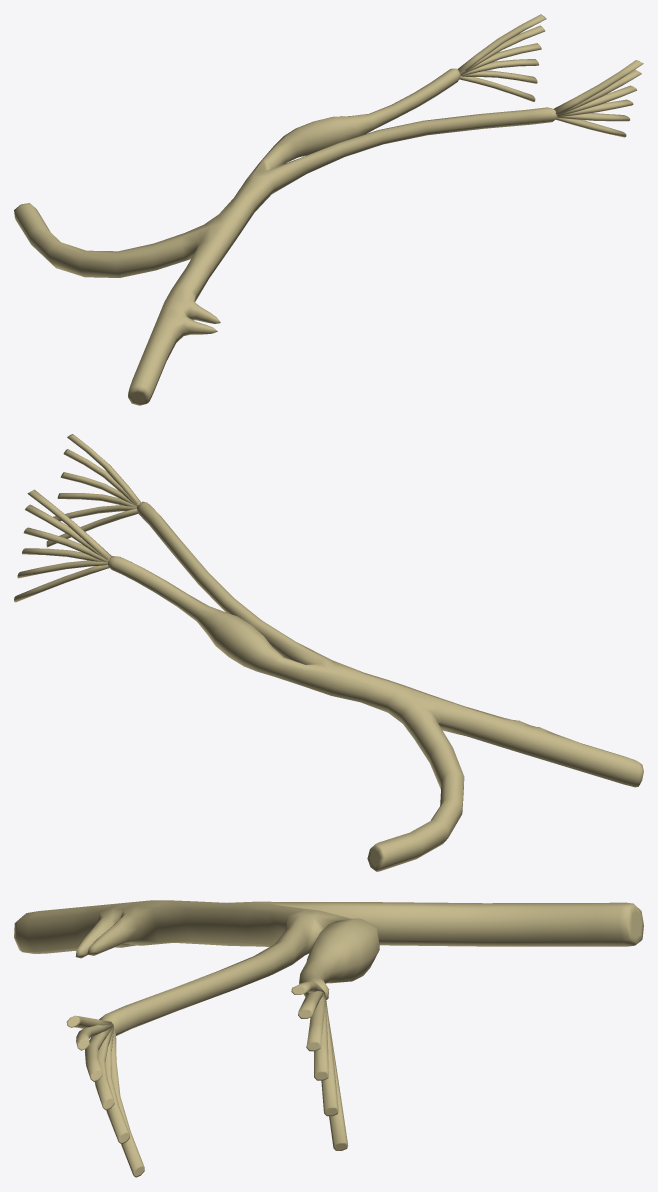
File: Nerves_L10.FBX
3 views of the same model, one above another, from view 1: azimuth 30°, elevation 25°; view 2: azimuth 150°, elevation 25°; view 3: azimuth 270°, elevation 25° (orthographic). The views are drawn at different scales.
Parts seen in each view (by area): view 1: Nerves_L10; view 2: Nerves_L10; view 3: Nerves_L10.
Part boxes in pixels (left/top/right/bottom): Nerves_L10: left=14, top=14, right=643, bottom=405; Nerves_L10: left=14, top=434, right=643, bottom=871; Nerves_L10: left=14, top=900, right=643, bottom=1177.
Size of the model in its own units: 0.0337 by 0.0132 by 0.0205.
